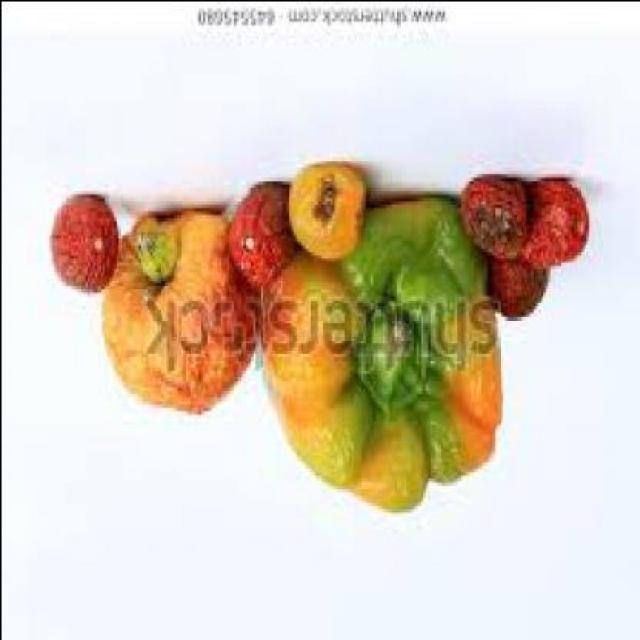BIODEGRADABLE: (260, 193, 506, 515), (103, 204, 260, 416), (292, 169, 366, 265), (232, 180, 292, 291), (53, 196, 118, 295), (460, 173, 528, 261), (525, 175, 589, 268), (492, 244, 552, 322)
